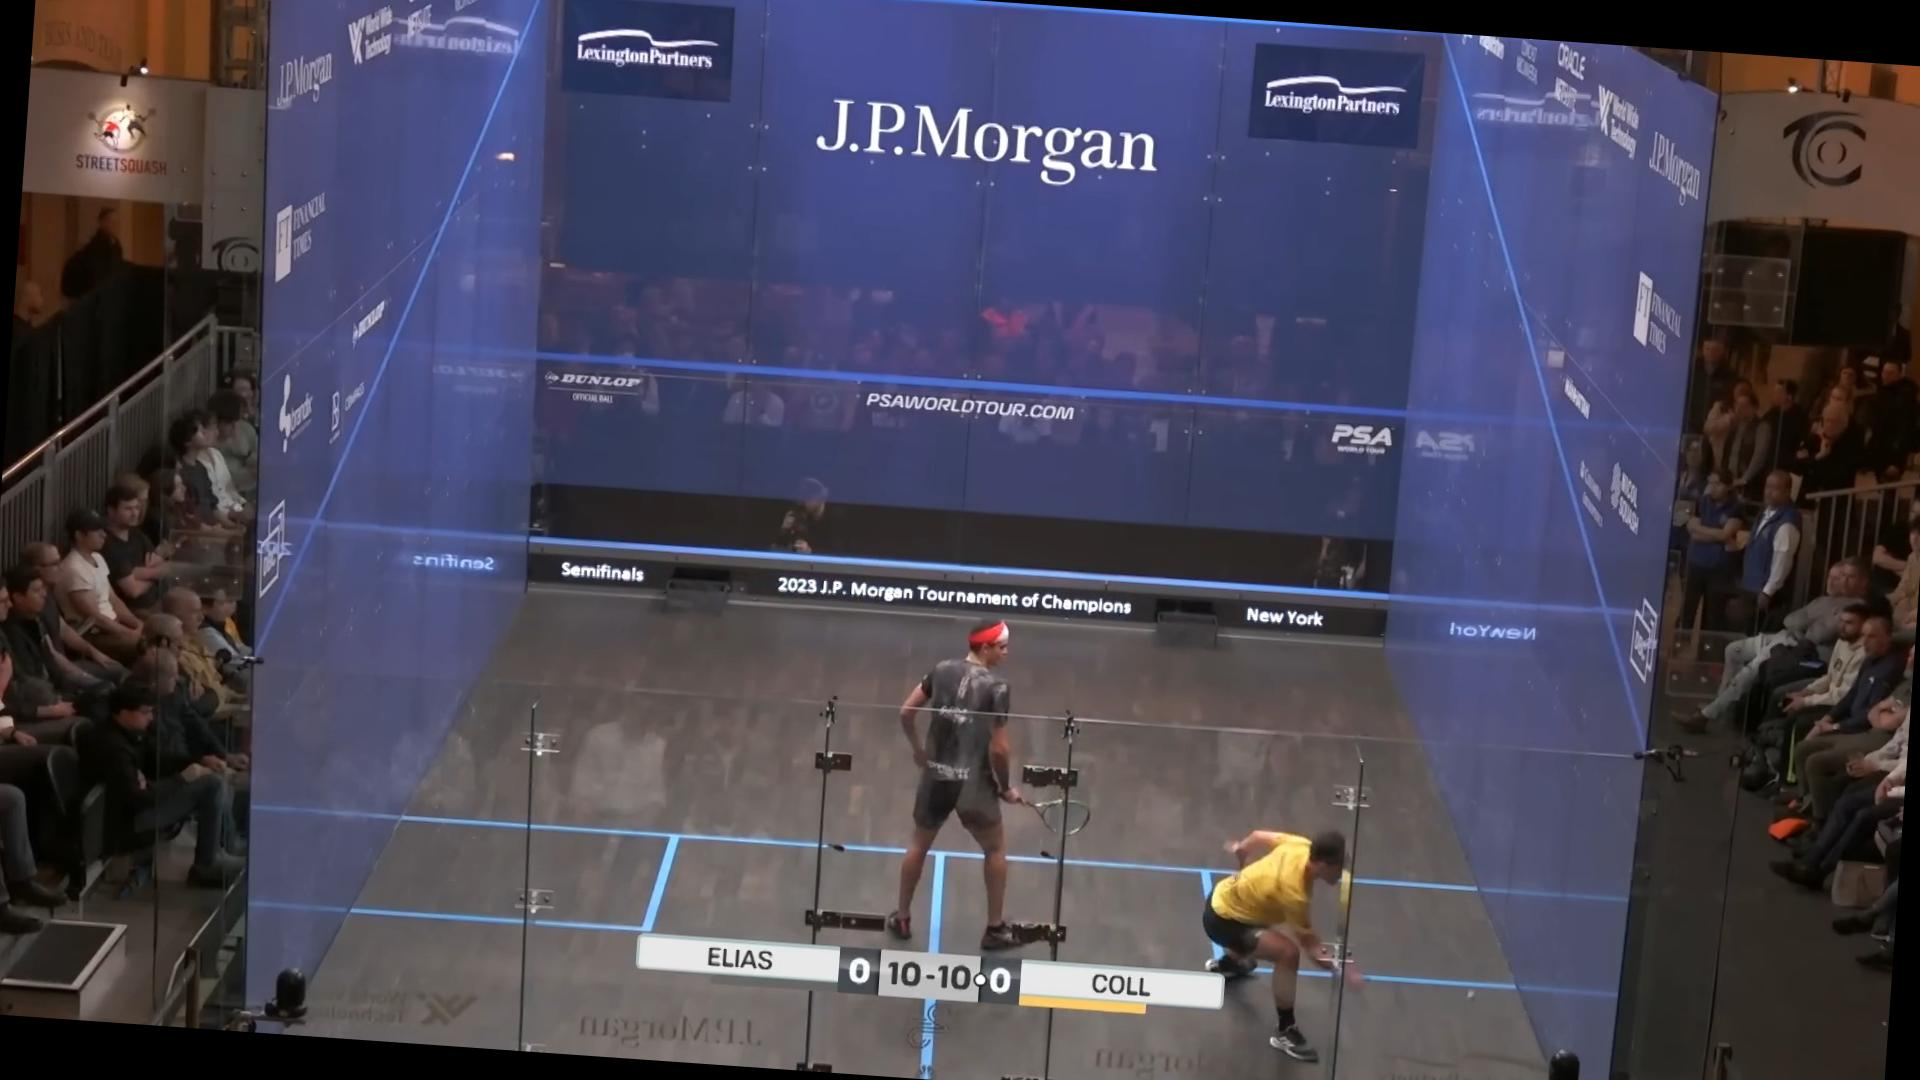Racket: (1011, 787, 1102, 844)
